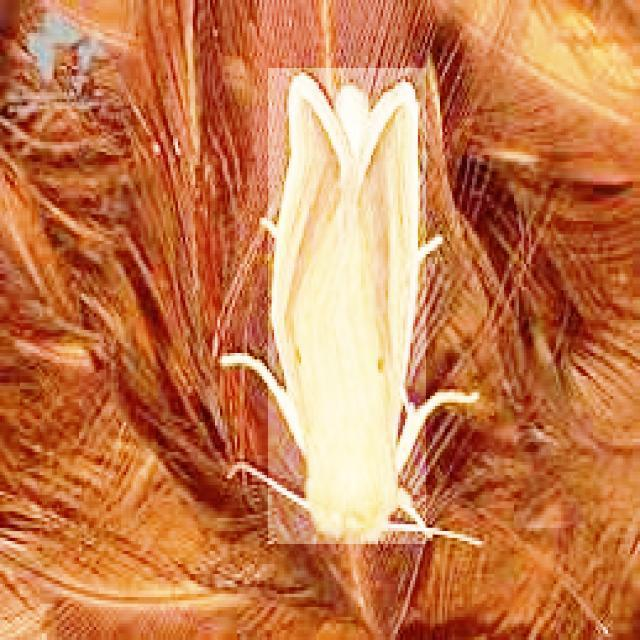stem-borer: (268, 69, 426, 545)
